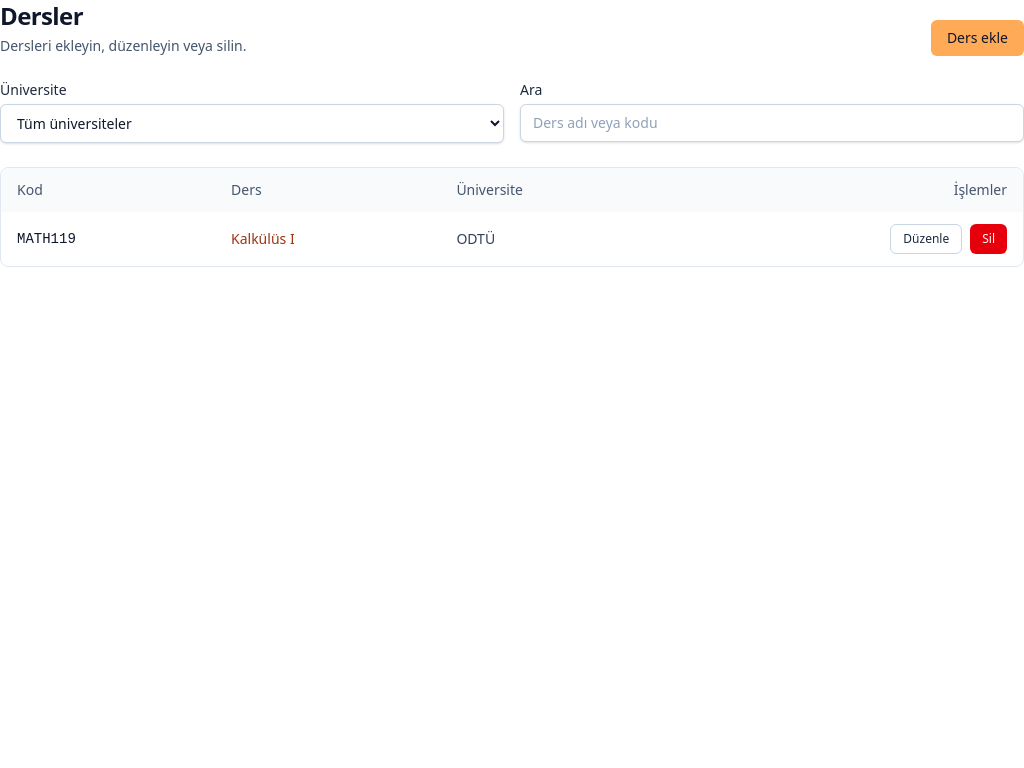
Test: CoursesPage › shows edit and delete actions to admins and reports a delete conflict
Expected: the button with aria-label "MATH119 Kalkülüs I düzenle" is shown, [890,224,962,254]
Click the button with aria-label "MATH119 Kalkülüs I sil" at (989, 239), box [970,224,1007,254]
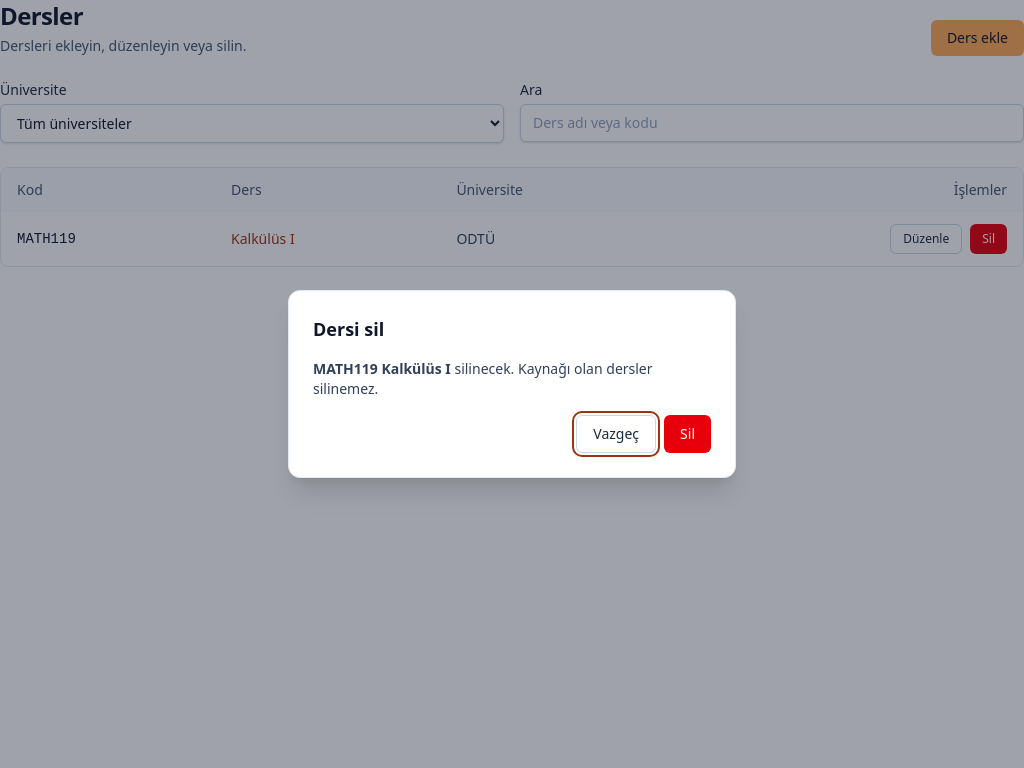
Click the button "Sil" at (688, 434), box [664,415,711,453]
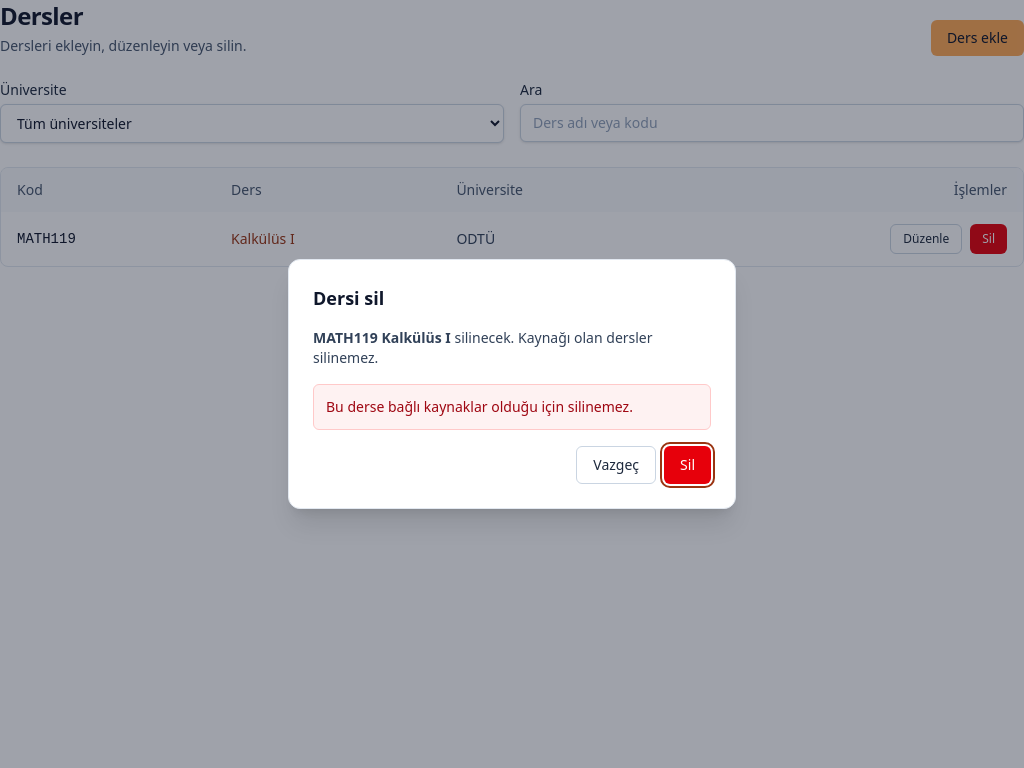
Expected: the message reads "Bu derse bağlı kaynaklar olduğu için silinemez.", [326,397,633,416]
